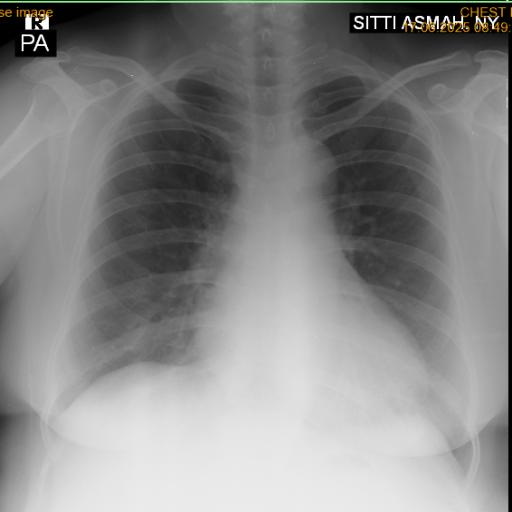kardiomegali: (40, 44, 484, 484)
